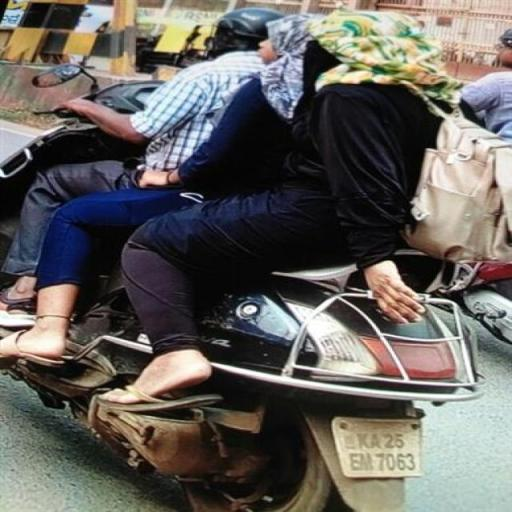tripple riding: (5, 5, 509, 266)
